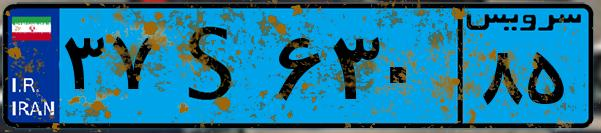0: (385, 28, 445, 110)
3: (330, 28, 385, 110), (57, 26, 110, 100)
5: (525, 38, 570, 115)
6: (270, 28, 330, 110)
7: (110, 28, 158, 98)
8: (475, 38, 525, 113)
S: (158, 12, 270, 120)
